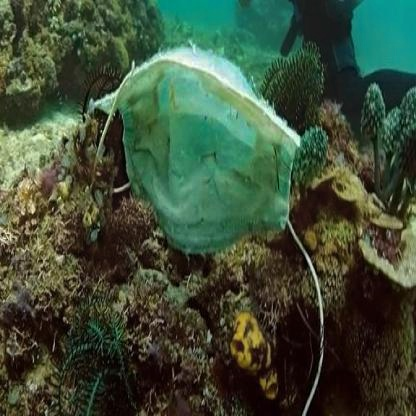misc: (101, 62, 306, 264)
